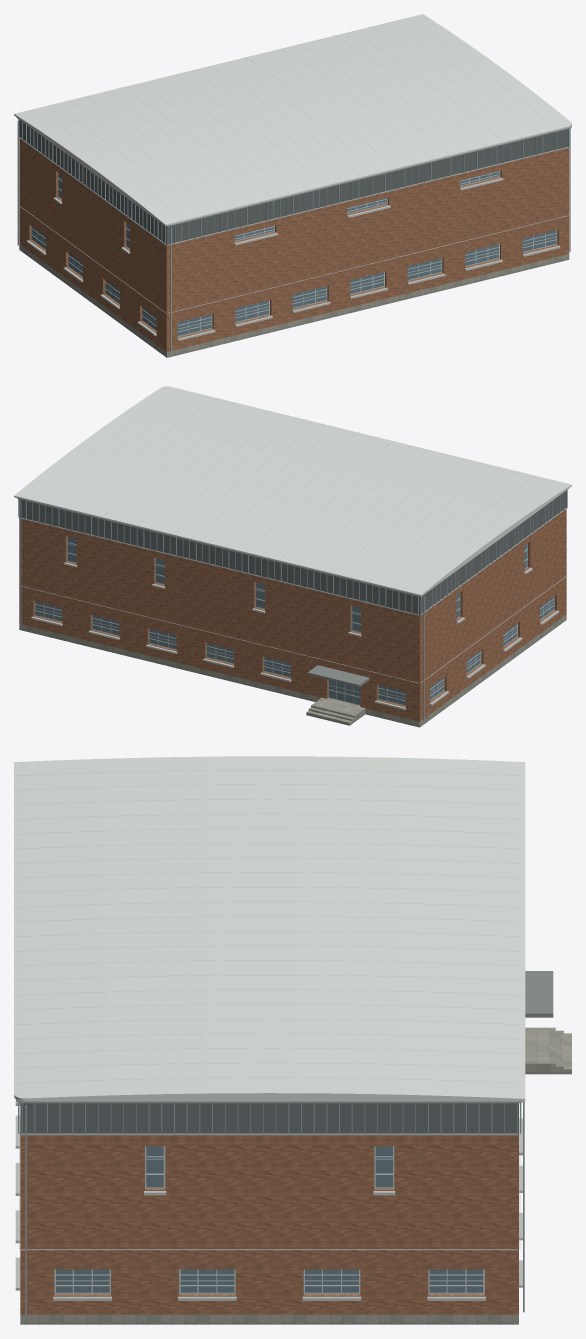
The picture shows the model from 3 angles, top to bottom: view 1: azimuth 30°, elevation 25°; view 2: azimuth 150°, elevation 25°; view 3: azimuth 270°, elevation 25°; orthographic projection. The views are drawn at different scales.
Visible parts, largest first — view 1: gym__cap, gym__brick, gym__metalroof, gym__glass, gym__joint, gym__steel, gym__stone, gym__frame, gym__sill; view 2: gym__cap, gym__brick, gym__metalroof, gym__joint, gym__glass, gym__steel, gym__stone, gym__frame, gym__sill, gym__entrance, gym__stair-north, gym__threshold-north; view 3: gym__cap, gym__brick, gym__metalroof, gym__joint, gym__glass, gym__stone, gym__steel, gym__frame, gym__sill, gym__entrance, gym__stair-north, gym__threshold-north.
Boxes of the visible parts, x1,y1,x2,y2 form: gym__cap: (14, 14, 571, 226); gym__brick: (19, 138, 569, 351); gym__metalroof: (19, 120, 568, 245); gym__glass: (32, 171, 556, 335); gym__joint: (19, 18, 569, 313); gym__steel: (16, 117, 571, 352); gym__stone: (19, 244, 569, 357); gym__frame: (31, 171, 557, 336); gym__sill: (26, 178, 560, 340); gym__cap: (14, 386, 571, 596); gym__brick: (19, 509, 566, 721); gym__metalroof: (20, 491, 566, 615); gym__joint: (18, 389, 566, 683); gym__glass: (35, 536, 554, 704); gym__steel: (17, 488, 568, 720); gym__stone: (19, 614, 566, 727); gym__frame: (34, 536, 554, 705); gym__sill: (31, 562, 559, 709); gym__entrance: (307, 665, 369, 687); gym__stair-north: (306, 704, 356, 725); gym__threshold-north: (314, 697, 365, 719); gym__cap: (14, 756, 525, 1101); gym__brick: (20, 1135, 518, 1314); gym__metalroof: (20, 1103, 518, 1134); gym__joint: (14, 770, 524, 1250); gym__glass: (56, 1146, 483, 1292); gym__stone: (20, 1314, 518, 1324); gym__steel: (16, 1099, 524, 1316); gym__frame: (54, 1146, 484, 1294); gym__sill: (15, 1099, 522, 1300); gym__entrance: (525, 971, 553, 1017); gym__stair-north: (547, 1027, 571, 1074); gym__threshold-north: (525, 1027, 547, 1074).
Bounding box in the file's own units: 39.34 × 12.81 × 27.54.
11 materials, 2 textured.
